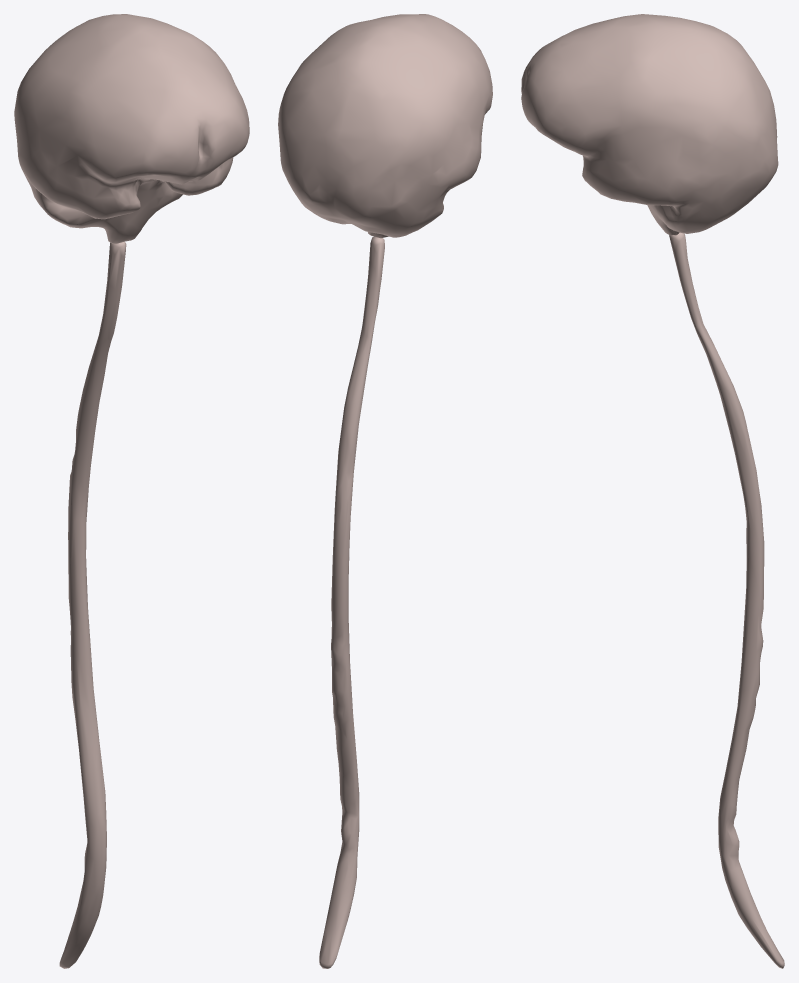
File: pediatric_child_10y_female.nervous.LOD0.glb
3 views of the same model, side by side, from view 1: azimuth 30°, elevation 25°; view 2: azimuth 150°, elevation 25°; view 3: azimuth 270°, elevation 25° (orthographic). The views are drawn at different scales.
Visible parts, largest first — view 1: PEDIATRIC.CHILD_10Y.FEMALE.NERVOUS.BRAIN, PEDIATRIC.CHILD_10Y.FEMALE.NERVOUS.SPINAL_CORD; view 2: PEDIATRIC.CHILD_10Y.FEMALE.NERVOUS.BRAIN, PEDIATRIC.CHILD_10Y.FEMALE.NERVOUS.SPINAL_CORD; view 3: PEDIATRIC.CHILD_10Y.FEMALE.NERVOUS.BRAIN, PEDIATRIC.CHILD_10Y.FEMALE.NERVOUS.SPINAL_CORD.
Part boxes in pixels (x1=…): PEDIATRIC.CHILD_10Y.FEMALE.NERVOUS.BRAIN: x1=14, y1=14, x2=249, y2=243; PEDIATRIC.CHILD_10Y.FEMALE.NERVOUS.SPINAL_CORD: x1=59, y1=241, x2=126, y2=968; PEDIATRIC.CHILD_10Y.FEMALE.NERVOUS.BRAIN: x1=278, y1=14, x2=492, y2=238; PEDIATRIC.CHILD_10Y.FEMALE.NERVOUS.SPINAL_CORD: x1=319, y1=236, x2=384, y2=968; PEDIATRIC.CHILD_10Y.FEMALE.NERVOUS.BRAIN: x1=521, y1=14, x2=778, y2=235; PEDIATRIC.CHILD_10Y.FEMALE.NERVOUS.SPINAL_CORD: x1=669, y1=232, x2=784, y2=968.
Size of the model in its own units: 0.129 by 0.6365 by 0.1605.
